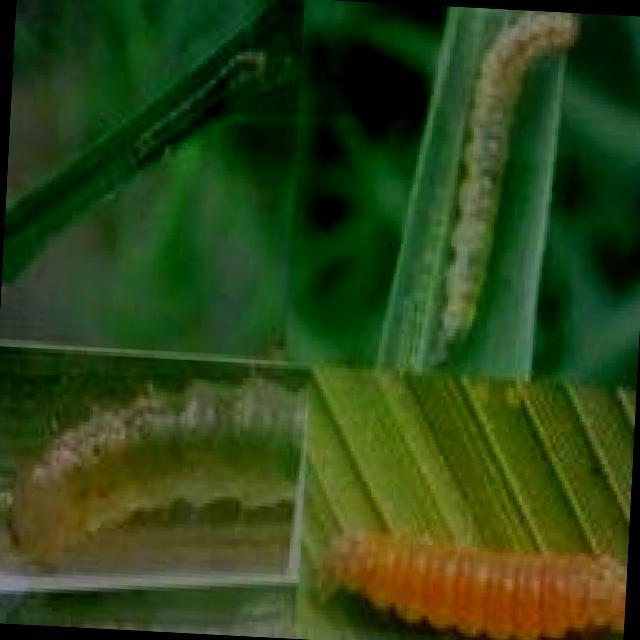leaf folder: (7, 378, 306, 567), (441, 12, 577, 344), (333, 535, 625, 639), (133, 48, 266, 168)
